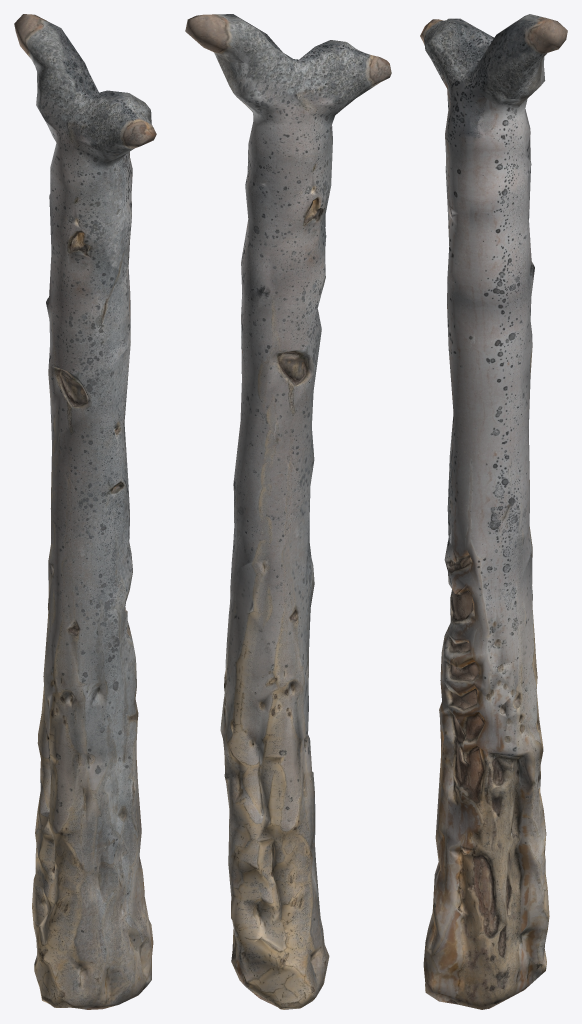
Rendered from dead_quiver_trunk.glb.
The picture shows the model from 3 angles, left to right: view 1: azimuth 90°, elevation 25°; view 2: azimuth 150°, elevation 25°; view 3: azimuth 270°, elevation 25°; orthographic projection. The views are drawn at different scales.
Bounding box in the file's own units: 0.3045 × 1.99 × 0.2676.
1 material, 1 textured.
